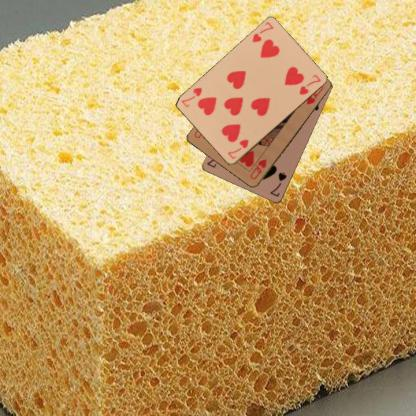7h: (225, 135, 251, 161), (250, 20, 275, 44)
7s: (268, 169, 288, 198)
Qh: (248, 156, 268, 181)
